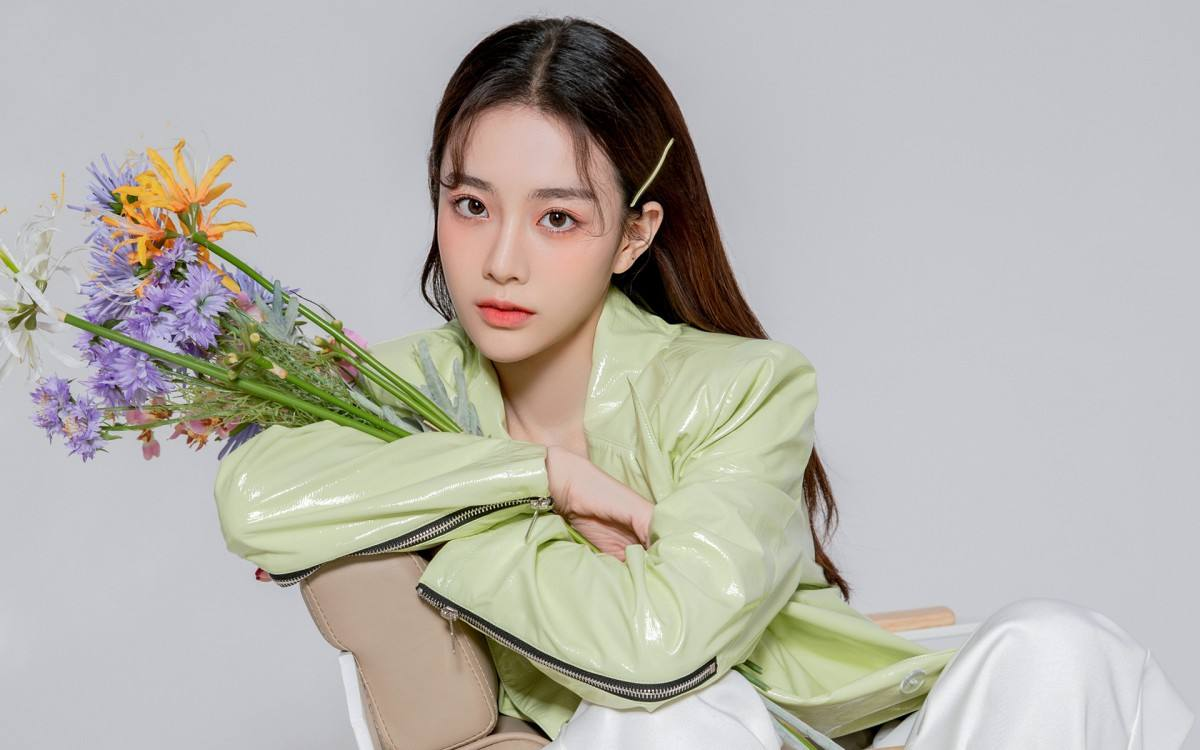person: (249, 14, 877, 716)
